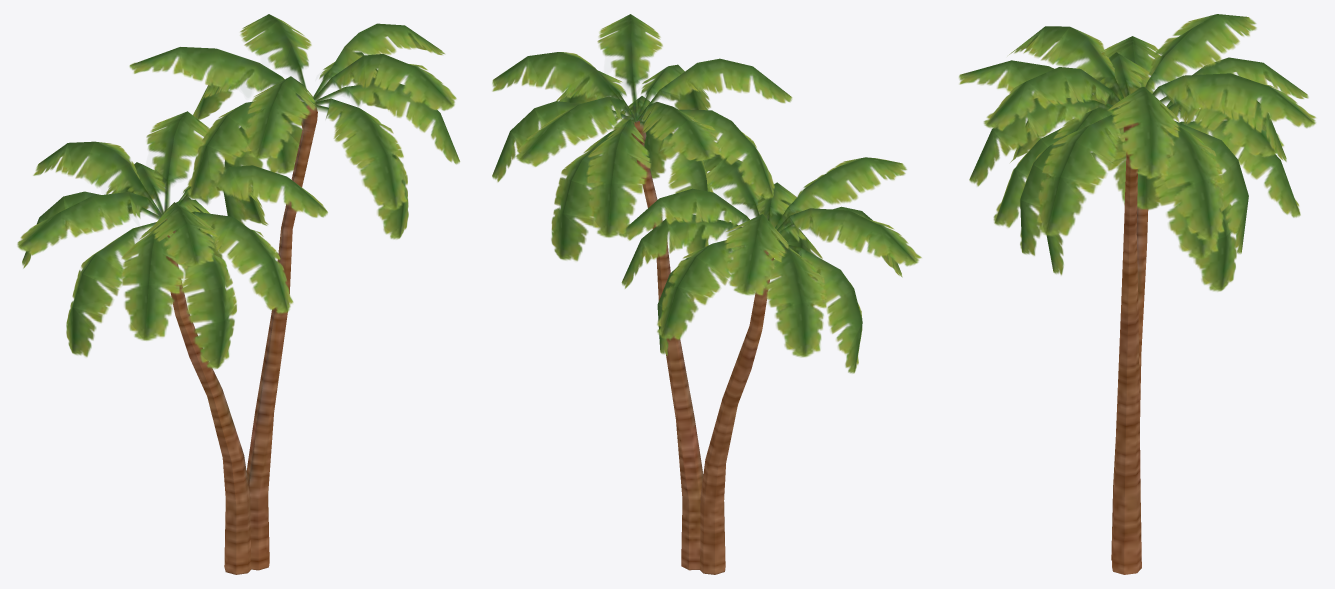
Rendered from bay-palm.lod1.glb.
The picture shows the model from 3 angles, left to right: view 1: azimuth 30°, elevation 25°; view 2: azimuth 150°, elevation 25°; view 3: azimuth 270°, elevation 25°; orthographic projection. The views are drawn at different scales.
Visible parts, largest first — view 1: Leaf_4_Leaf_3_0, Bark_4_Bark_4_0; view 2: Leaf_4_Leaf_3_0, Bark_4_Bark_4_0; view 3: Leaf_4_Leaf_3_0, Bark_4_Bark_4_0.
Part boxes in pixels (left/top/right/bottom): Leaf_4_Leaf_3_0: left=17, top=14, right=459, bottom=368; Bark_4_Bark_4_0: left=166, top=105, right=317, bottom=574; Leaf_4_Leaf_3_0: left=492, top=14, right=921, bottom=373; Bark_4_Bark_4_0: left=631, top=120, right=773, bottom=574; Leaf_4_Leaf_3_0: left=959, top=14, right=1315, bottom=291; Bark_4_Bark_4_0: left=1111, top=122, right=1148, bottom=574.
Size of the model in its own units: 7.08 by 8 by 4.78.
Materials: 2 (2 with a texture image).
